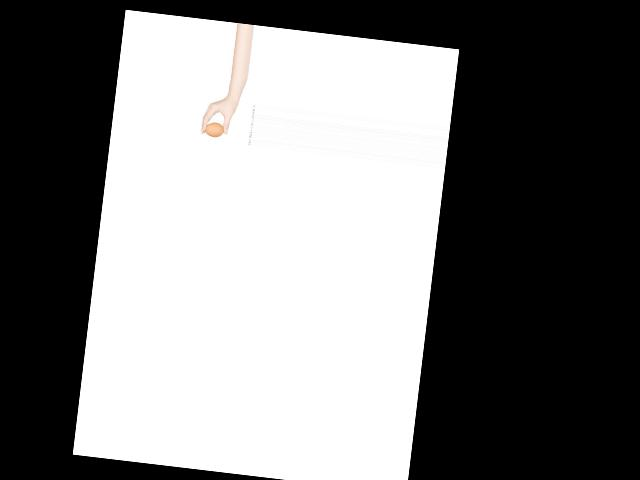egg: (203, 121, 225, 138)
